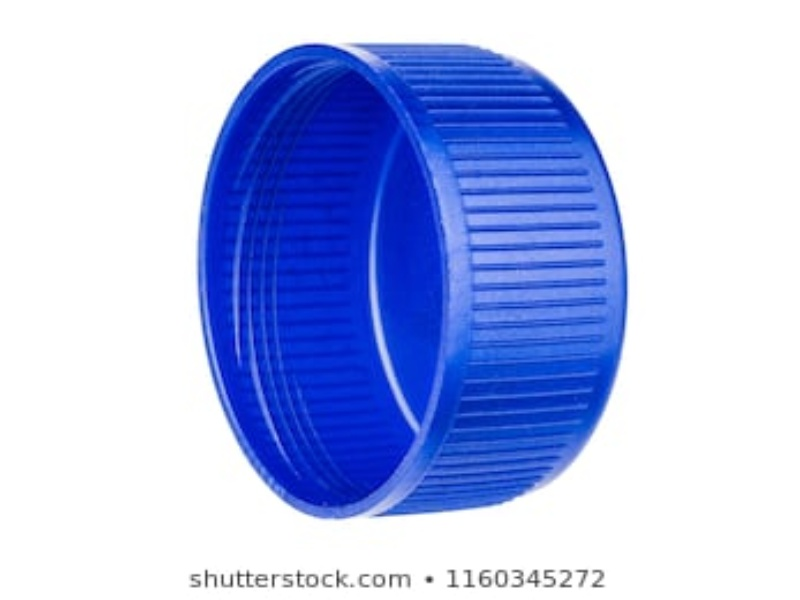bottle-cap: (188, 35, 632, 524)
